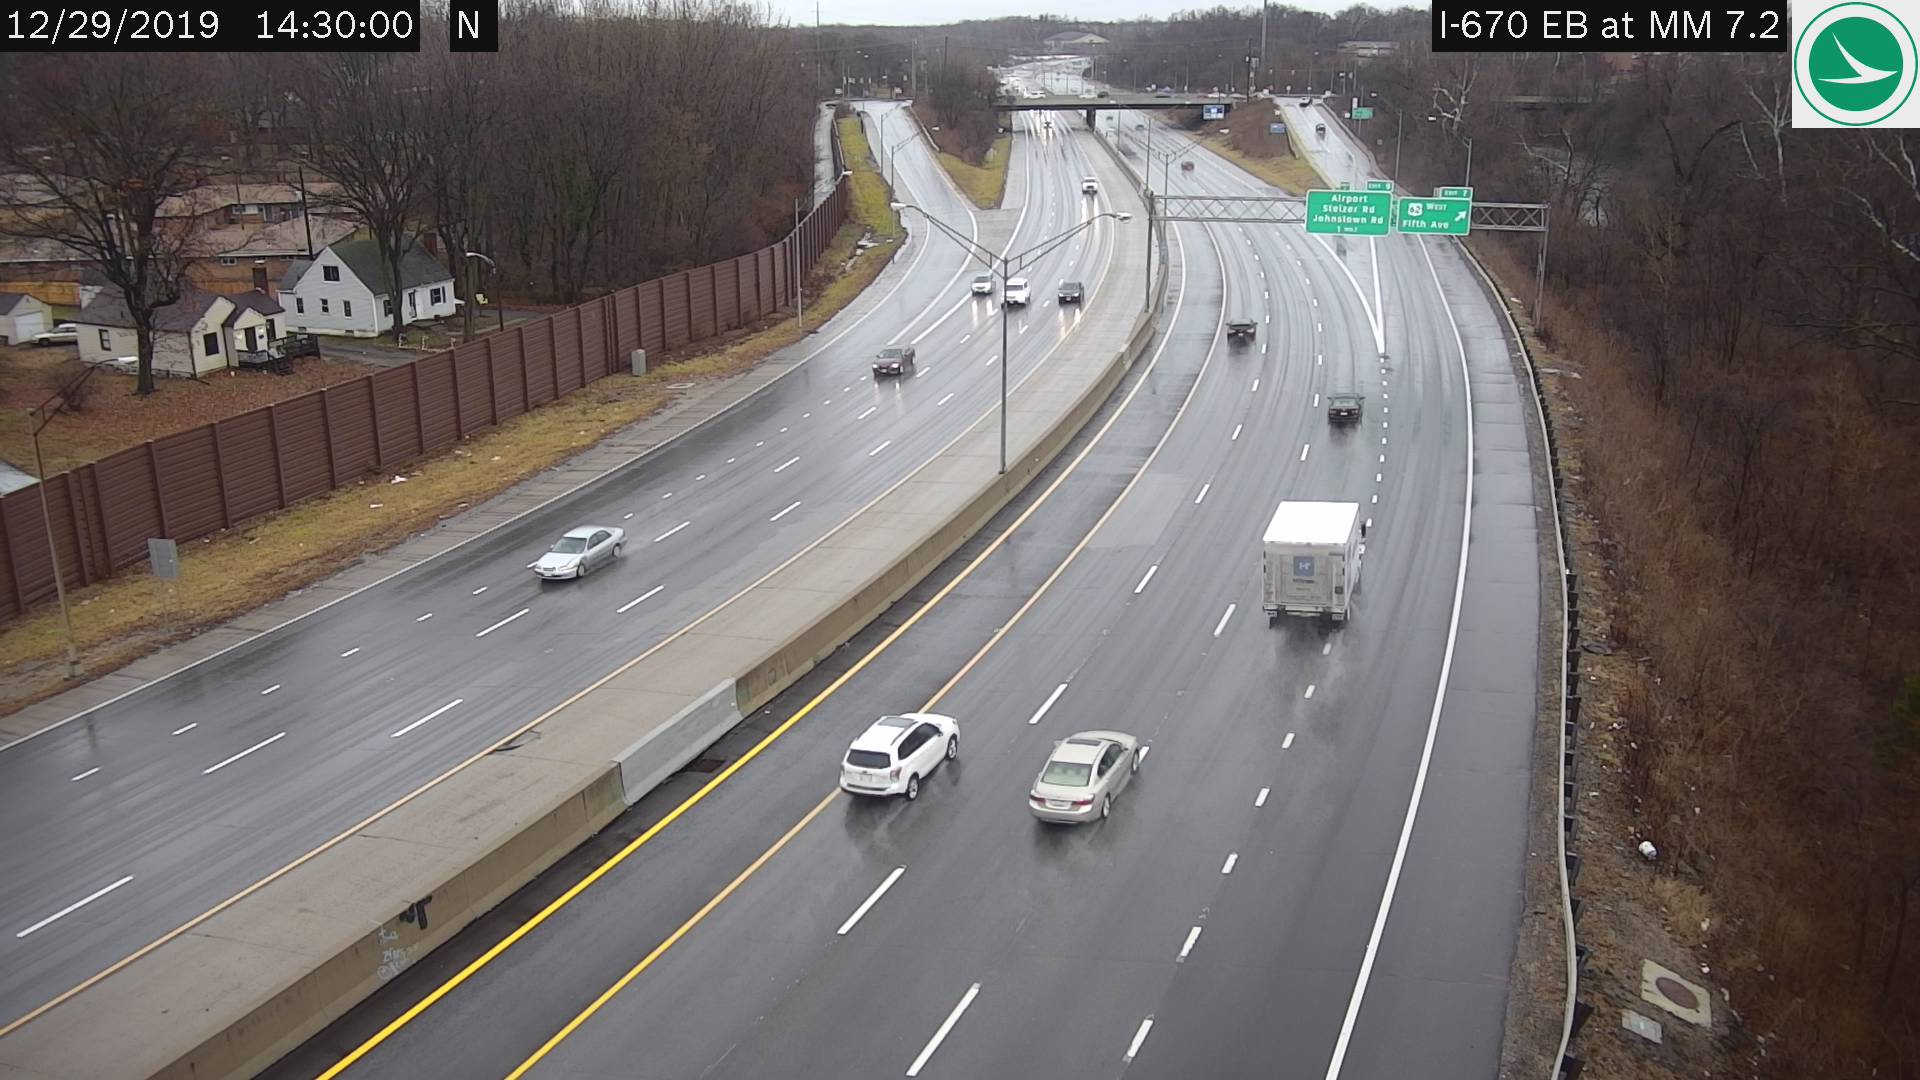car: (1262, 500, 1362, 624), (837, 712, 957, 804), (1030, 728, 1138, 828), (534, 524, 622, 584), (874, 340, 914, 376), (1327, 388, 1362, 425), (1002, 272, 1030, 309), (1226, 316, 1258, 344), (1058, 276, 1083, 309), (971, 268, 994, 295), (1077, 171, 1098, 193)
